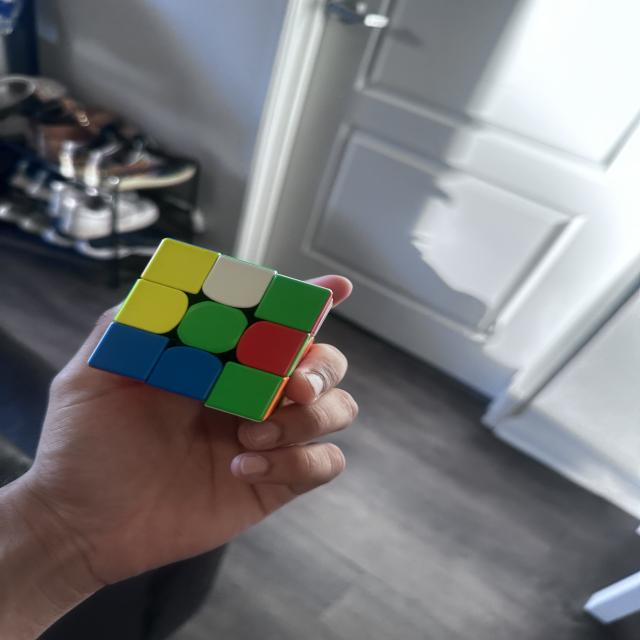sticker: (204, 362, 287, 422), (87, 321, 168, 382), (254, 274, 334, 332), (235, 319, 313, 377), (141, 236, 219, 294), (113, 278, 189, 334), (201, 254, 276, 310), (146, 346, 222, 401), (176, 300, 249, 355)
